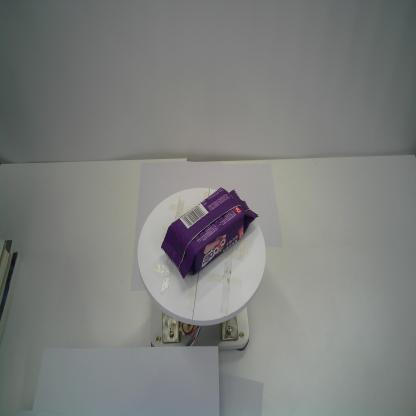Dessert: (161, 185, 259, 282)
